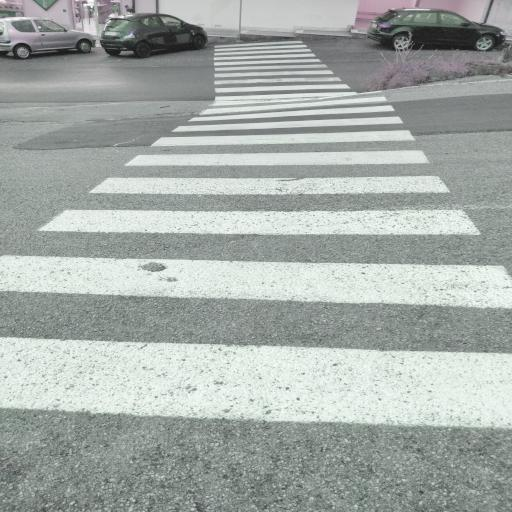crosswalk: (26, 172, 488, 244), (142, 112, 418, 150), (208, 72, 356, 96)
